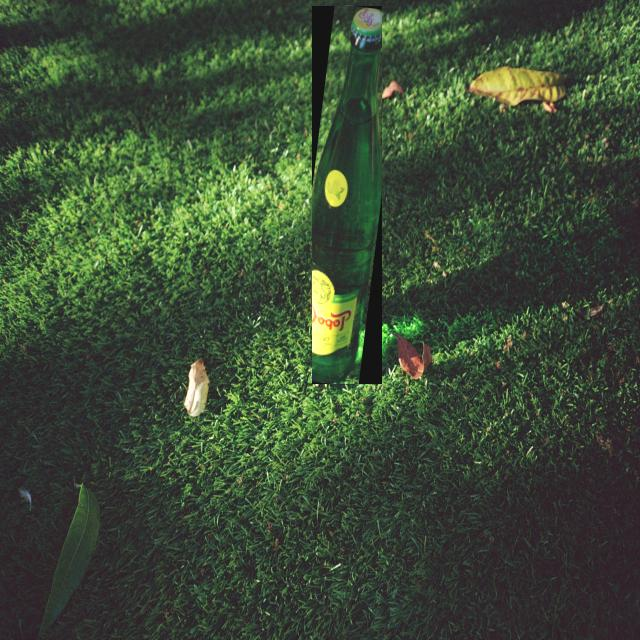Bottle: (311, 6, 381, 384)
